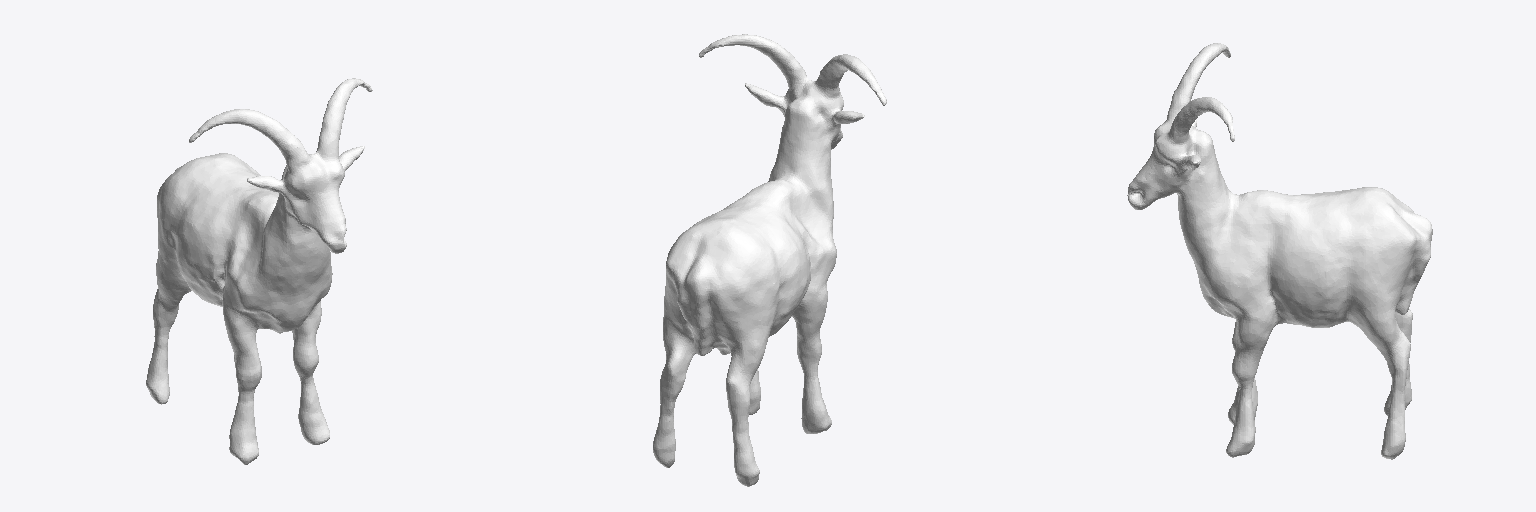
The model's file is white-goat-2015-obj.obj.
3 renders of one model, left to right at view 1: azimuth 30°, elevation 25°; view 2: azimuth 150°, elevation 25°; view 3: azimuth 270°, elevation 25°, orthographic.
Visible parts, largest first — view 1: white_goat; view 2: white_goat; view 3: white_goat.
Boxes of the visible parts, x1,y1,x2,y2 form: white_goat: [146, 78, 372, 464]; white_goat: [653, 34, 886, 486]; white_goat: [1127, 43, 1432, 459].
Bounding box in the file's own units: 1031 × 1966 × 1475.